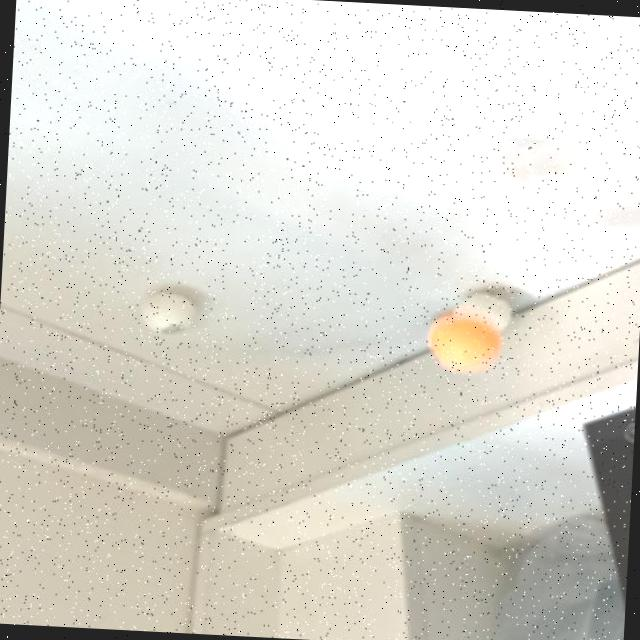ping-pong-ball: (429, 317, 498, 372), (452, 290, 511, 338), (141, 288, 199, 336)
